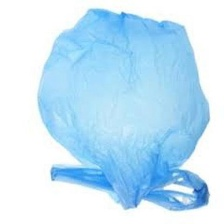plastic_bag: (32, 4, 215, 220)
